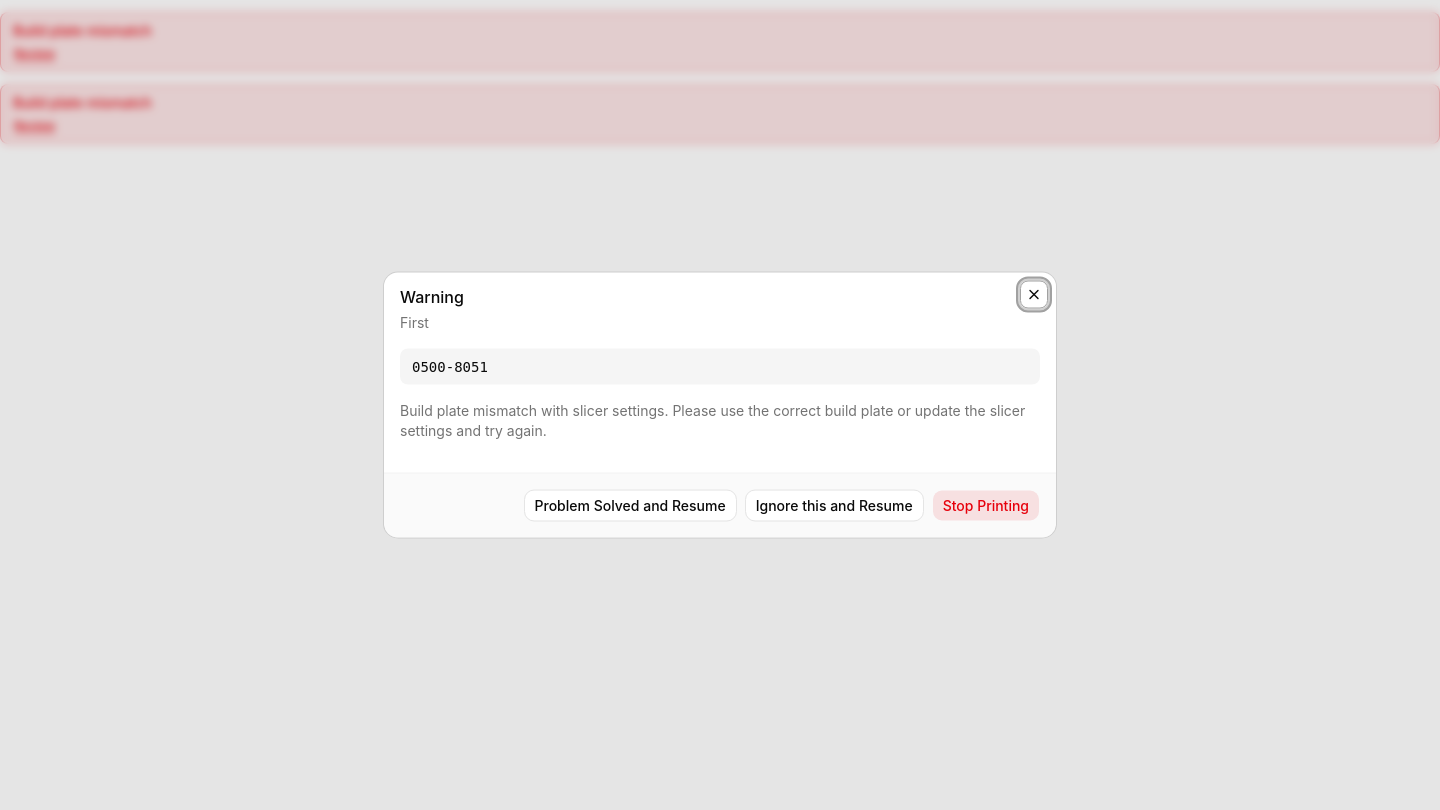
Scenario: PrinterMismatchCoordinator › keeps first-open selection stable under Strict Mode effect replay
The width and height of the screenshot is (1440, 810).
Expected: the dialog shows "First", [400,314,429,330]
Click the button named "Close mismatch dialog" at (1034,294), box [1020,280,1048,308]
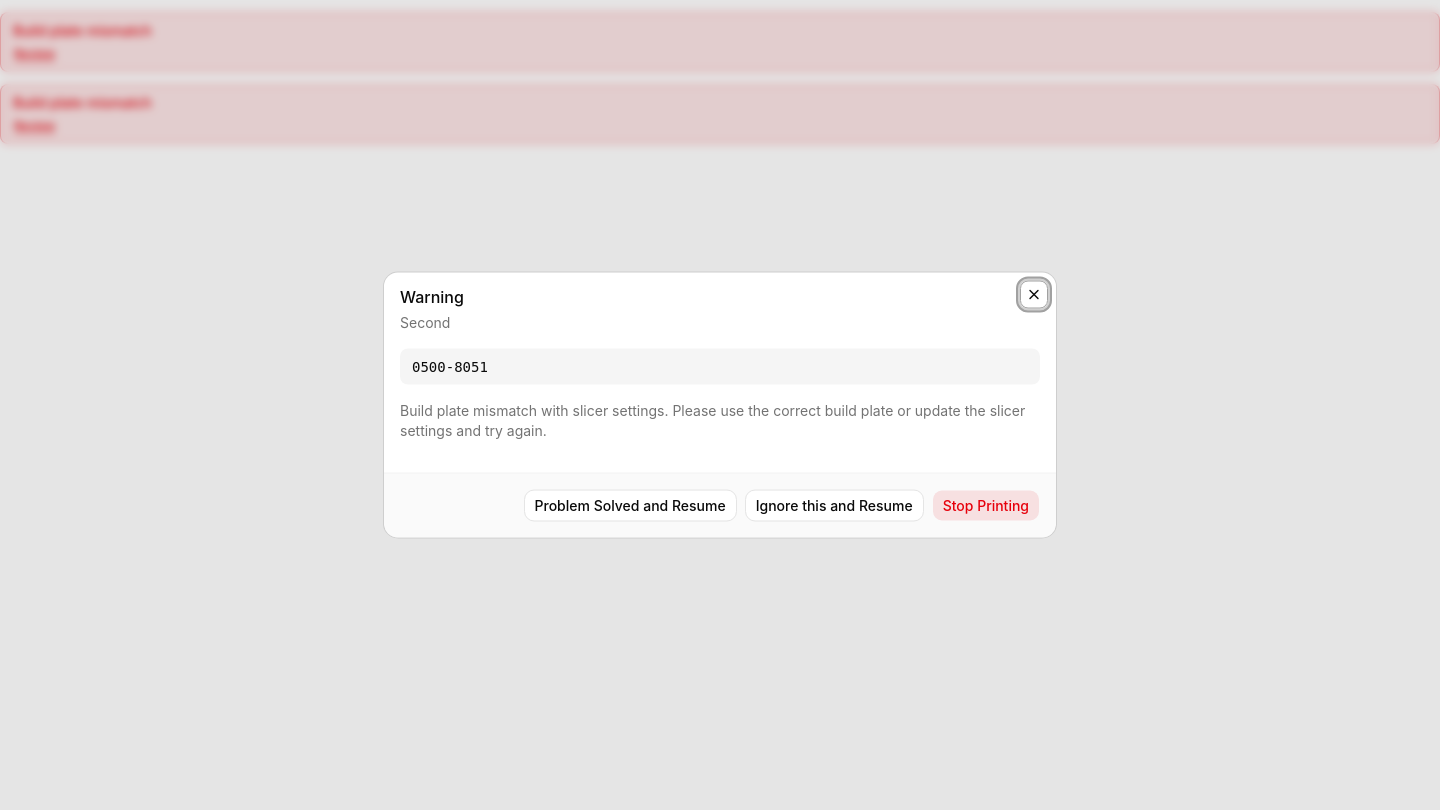
Expected: the dialog shows "Second", [400,314,450,330]
